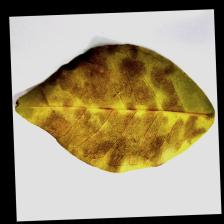black spot: (83, 58, 186, 149)
